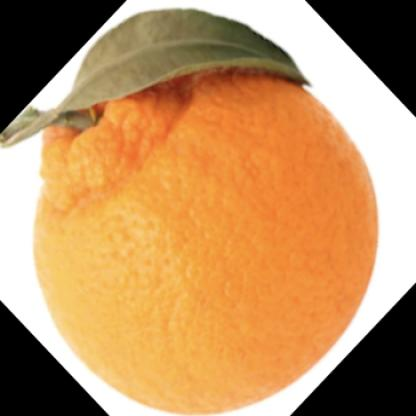fresh: (35, 55, 378, 416)
